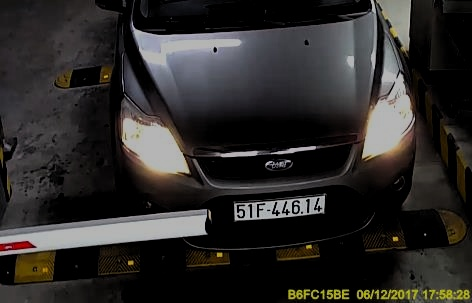plate: (226, 193, 335, 223)
